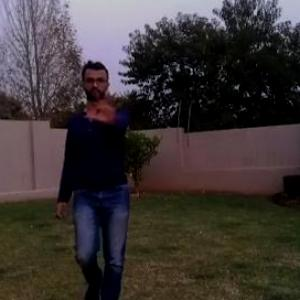follow_hand: (89, 86, 122, 126)
